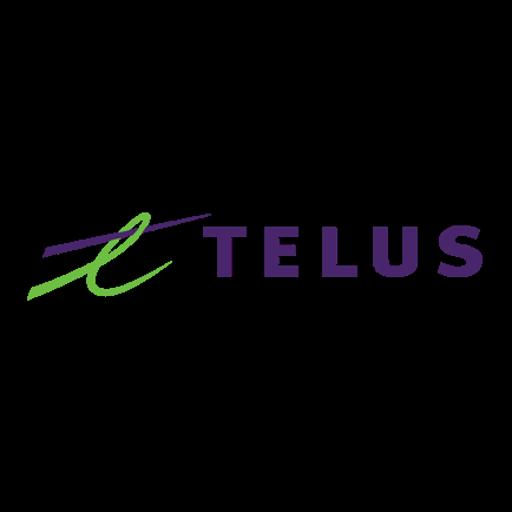Telus: (0, 183, 512, 329)
